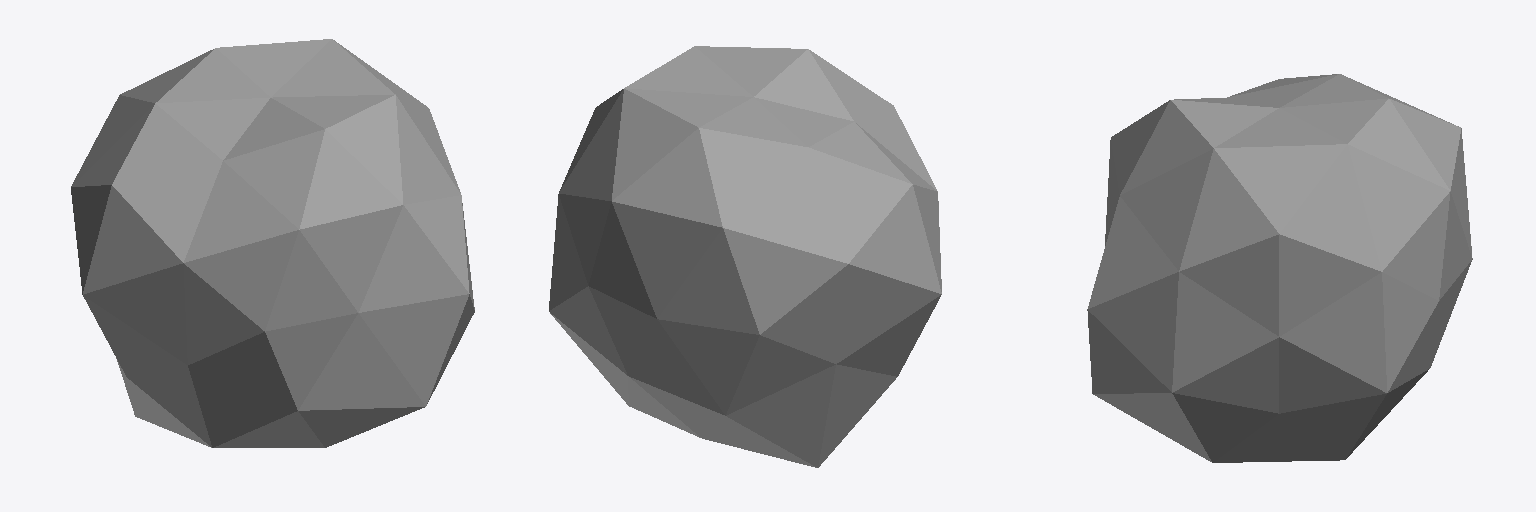
The model's file is asteroid.obj.
The picture shows the model from 3 angles: view 1: azimuth 30°, elevation 25°; view 2: azimuth 150°, elevation 25°; view 3: azimuth 270°, elevation 25°; orthographic projection.
Visible parts, largest first — view 1: icosahedron1; view 2: icosahedron1; view 3: icosahedron1.
Boxes of the visible parts, x1,y1,x2,y2 form: icosahedron1: [71, 39, 474, 447]; icosahedron1: [549, 46, 941, 467]; icosahedron1: [1087, 74, 1472, 462].
Size of the model in its own units: 4.09 by 3.72 by 3.92.